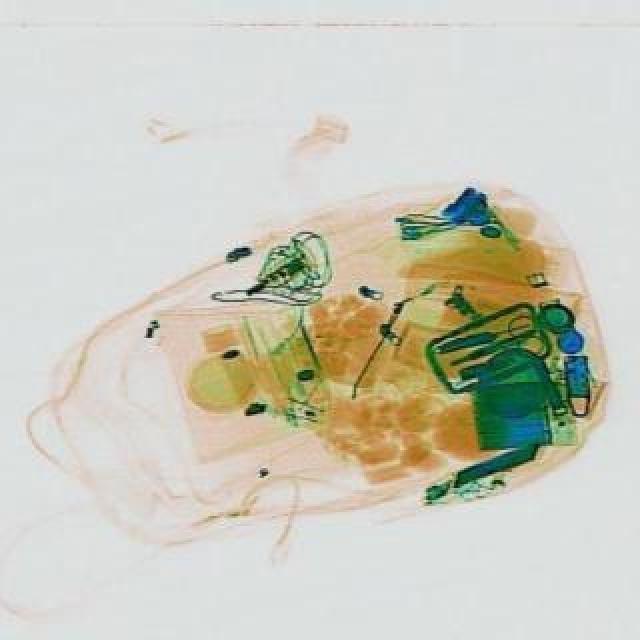pliers: (438, 310, 546, 382)
